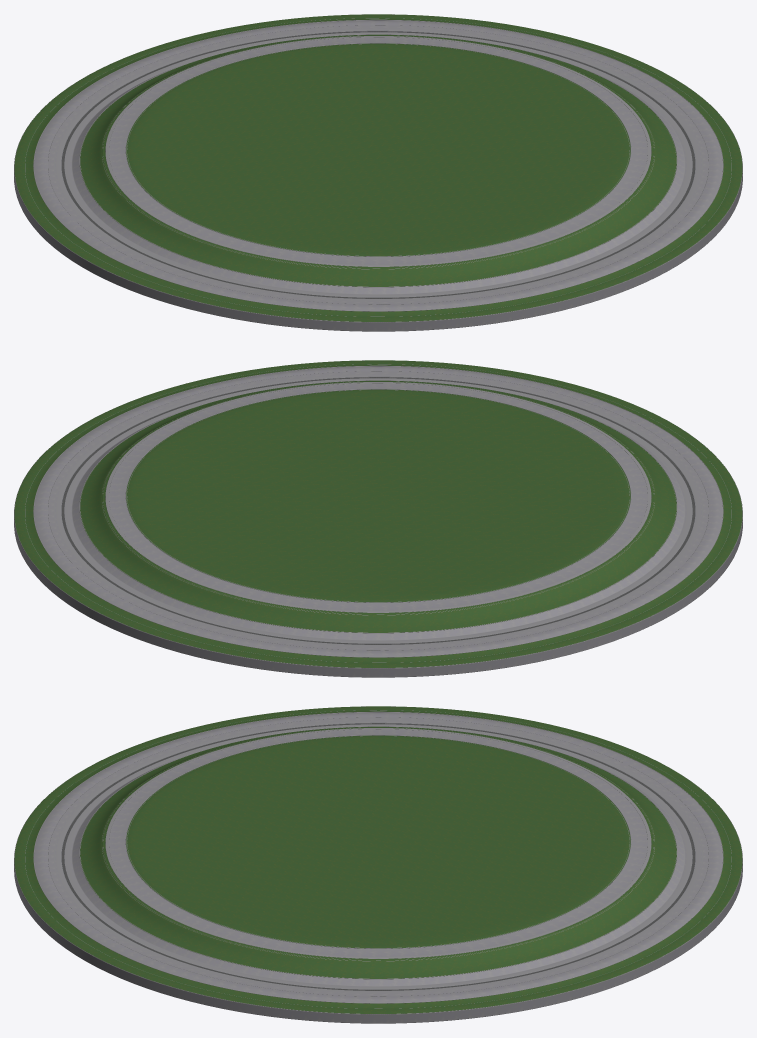
The model's file is SM_Disc_Platform_03.fbx.
3 views of the same model, one above another, from view 1: azimuth 30°, elevation 25°; view 2: azimuth 150°, elevation 25°; view 3: azimuth 270°, elevation 25° (orthographic).
Visible parts, largest first — view 1: SM_Disc_Platform_03_LOD0; view 2: SM_Disc_Platform_03_LOD0; view 3: SM_Disc_Platform_03_LOD0.
Part boxes in pixels (x1,y1,x2,y2): SM_Disc_Platform_03_LOD0: (14,14,742,331); SM_Disc_Platform_03_LOD0: (14,360,742,677); SM_Disc_Platform_03_LOD0: (14,706,742,1023).
Size of the model in its own units: 21000 by 21000 by 900.
3 materials, 3 textured.
